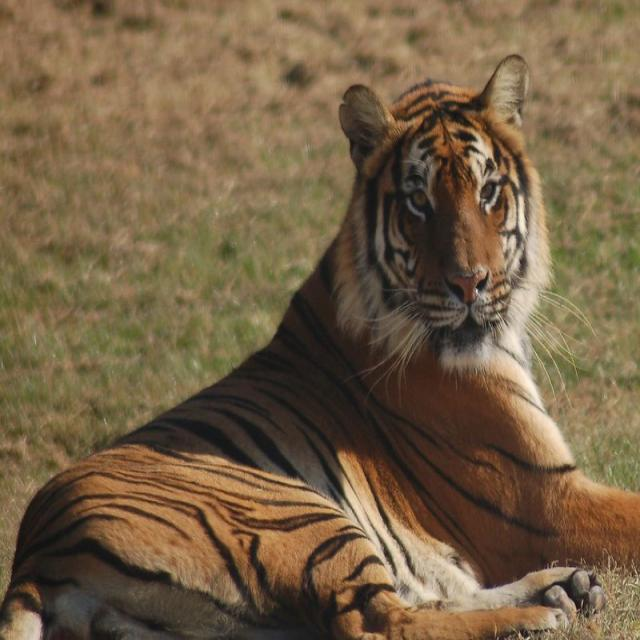Tiger: (0, 52, 636, 636)
